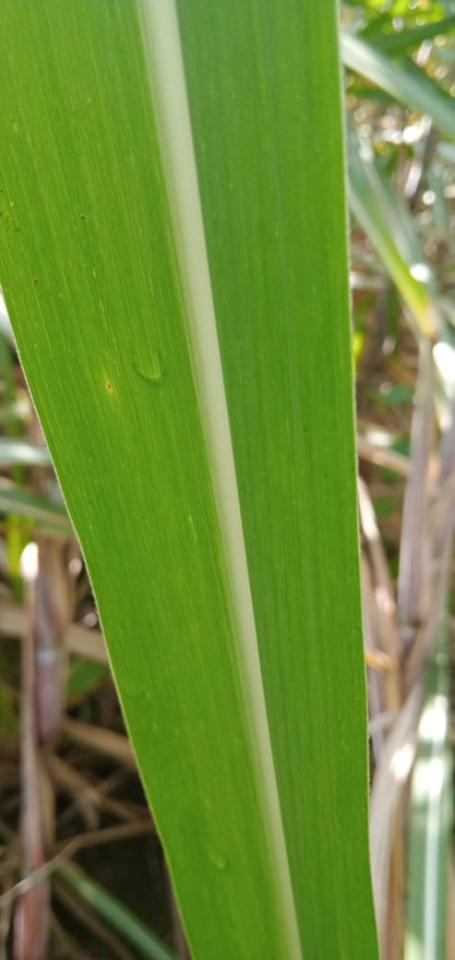Healthy: (0, 0, 378, 959)
